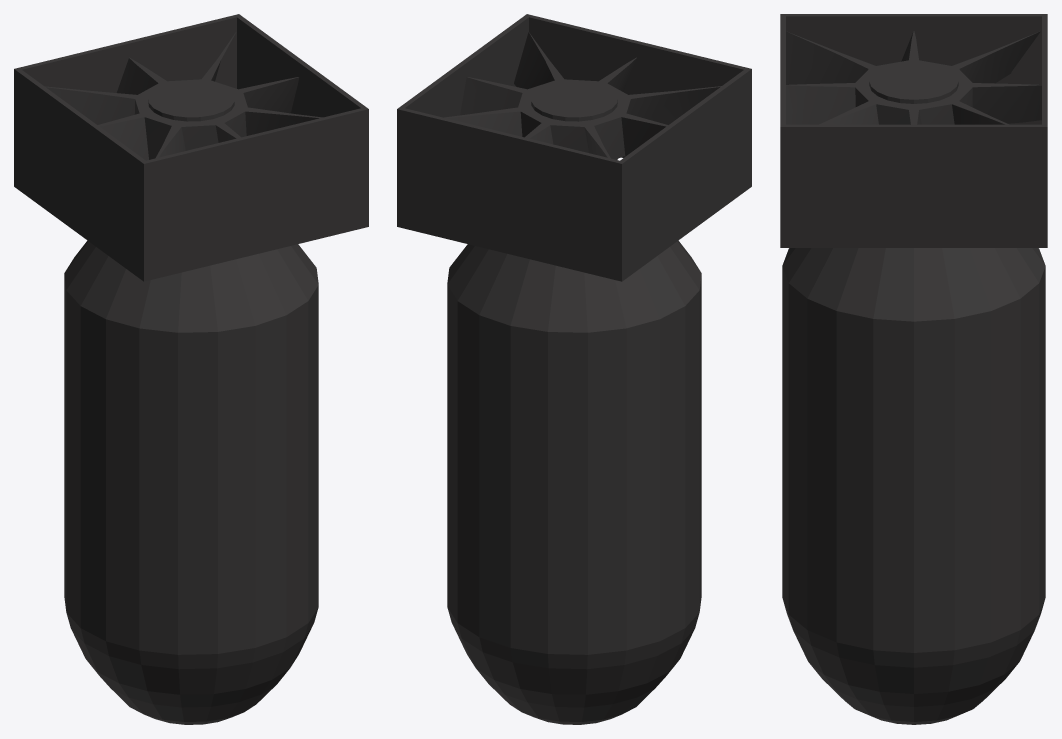
The model's file is bomb nguyen tu.fbx.
The picture shows the model from 3 angles, left to right: view 1: azimuth 30°, elevation 25°; view 2: azimuth 150°, elevation 25°; view 3: azimuth 270°, elevation 25°; orthographic projection. The views are drawn at different scales.
Parts seen in each view (by area): view 1: Bomb_nguyen_tu; view 2: Bomb_nguyen_tu; view 3: Bomb_nguyen_tu.
Part boxes in pixels (x1=…): Bomb_nguyen_tu: x1=14, y1=14, x2=368, y2=724; Bomb_nguyen_tu: x1=397, y1=14, x2=751, y2=724; Bomb_nguyen_tu: x1=780, y1=14, x2=1047, y2=724.
Bounding box in the file's own units: 86.12 × 227 × 86.12.
1 material, 1 textured.
